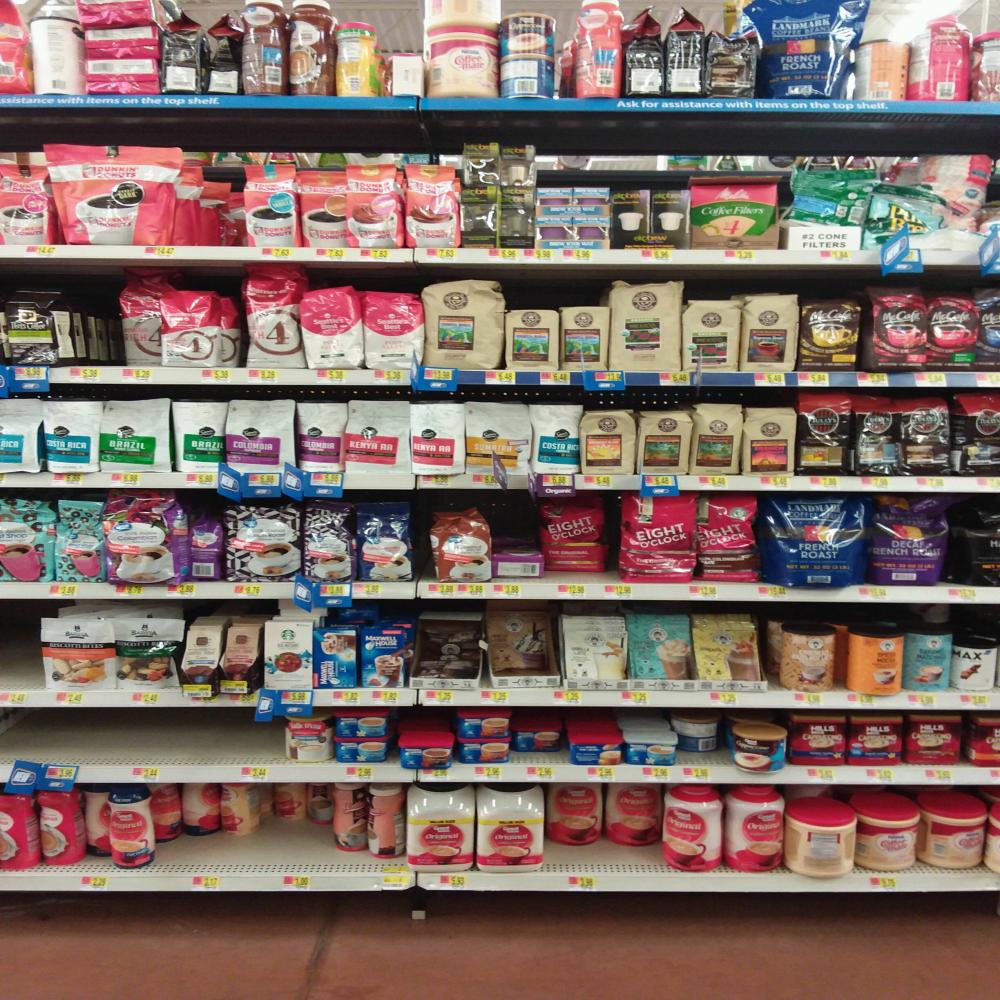shelf: (0, 364, 1000, 389), (0, 95, 1000, 117), (0, 244, 1000, 266), (0, 582, 1000, 604), (0, 762, 1000, 784), (0, 472, 1000, 493), (0, 691, 1000, 710), (0, 873, 1000, 892)
